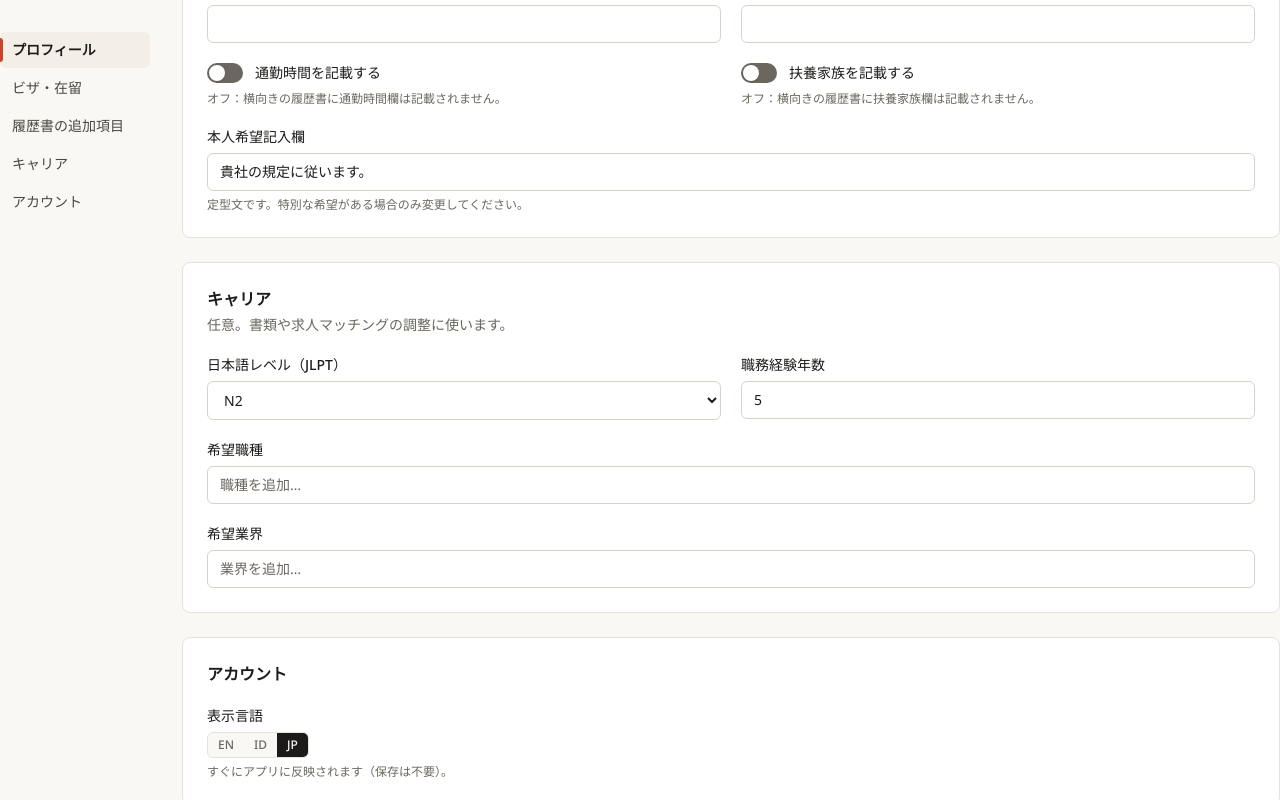
Test: settings page, the save bar › treats emptying yearsExp as no change, and puts it back on leaving
(page scrolled)
Clear the number field labelled "職務経験年数": (998, 400) [741, 381, 1255, 419]
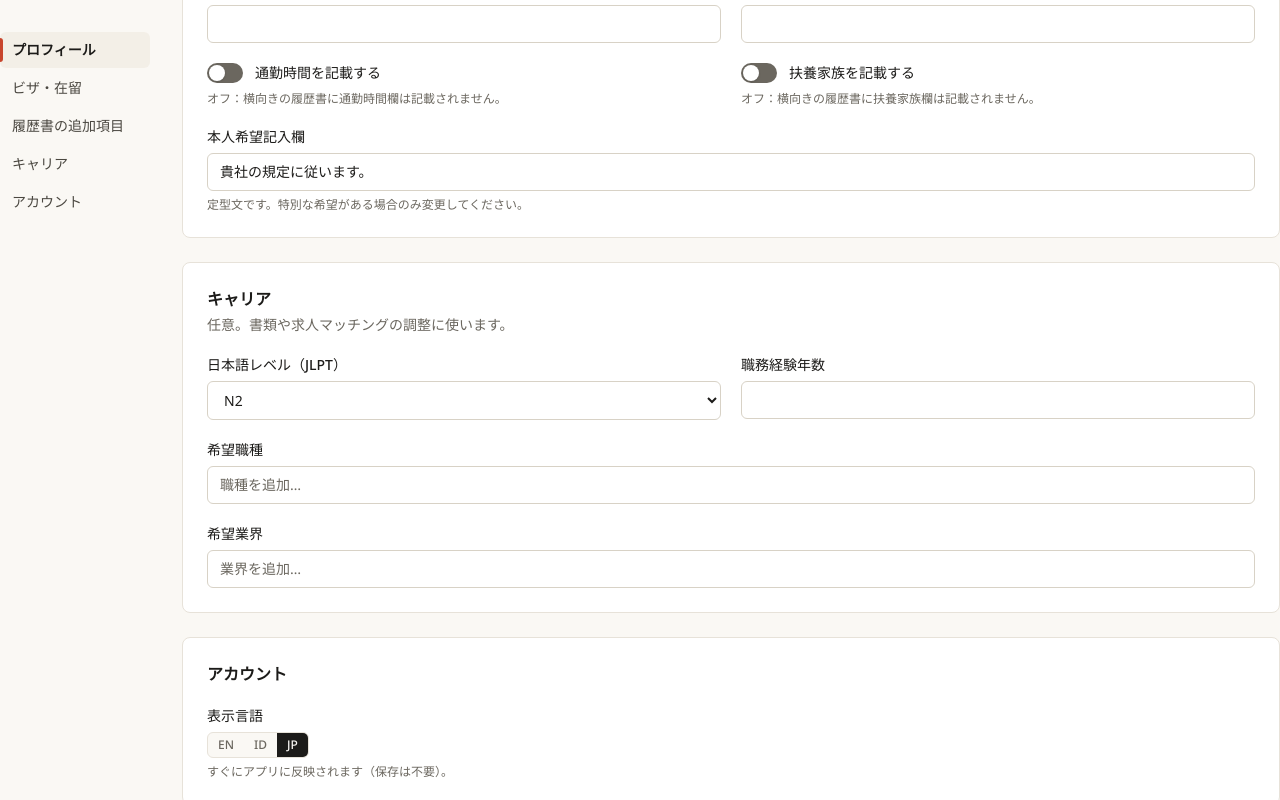
Leave the number field labelled "職務経験年数", box [741, 381, 1255, 419]
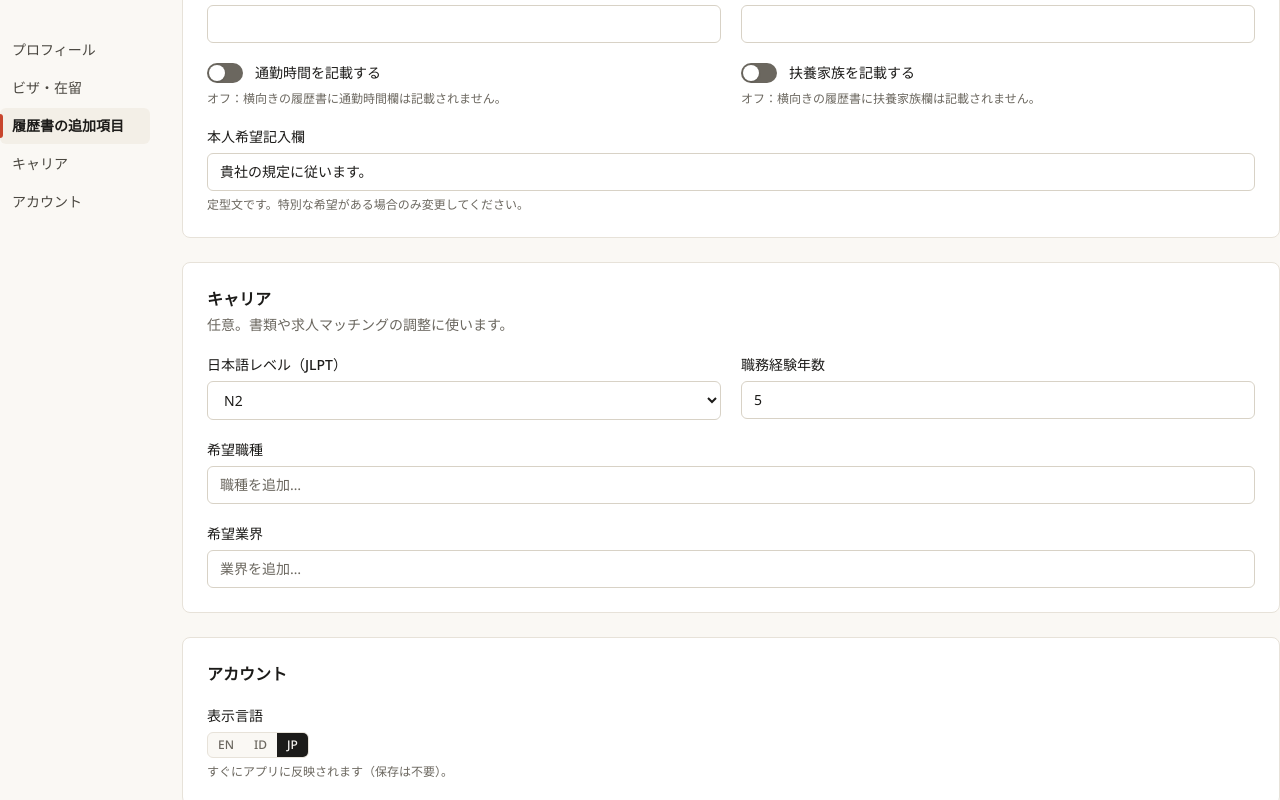
Expected: the number field labelled "職務経験年数" holds "5", [741, 381, 1255, 419]
